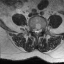CCS_normal: (36, 26, 38, 36)
LFS_normal: (40, 26, 43, 34)
LLS_normal: (38, 26, 40, 35)
RFS_normal: (31, 25, 34, 34)
RLS_normal: (34, 26, 36, 35)
